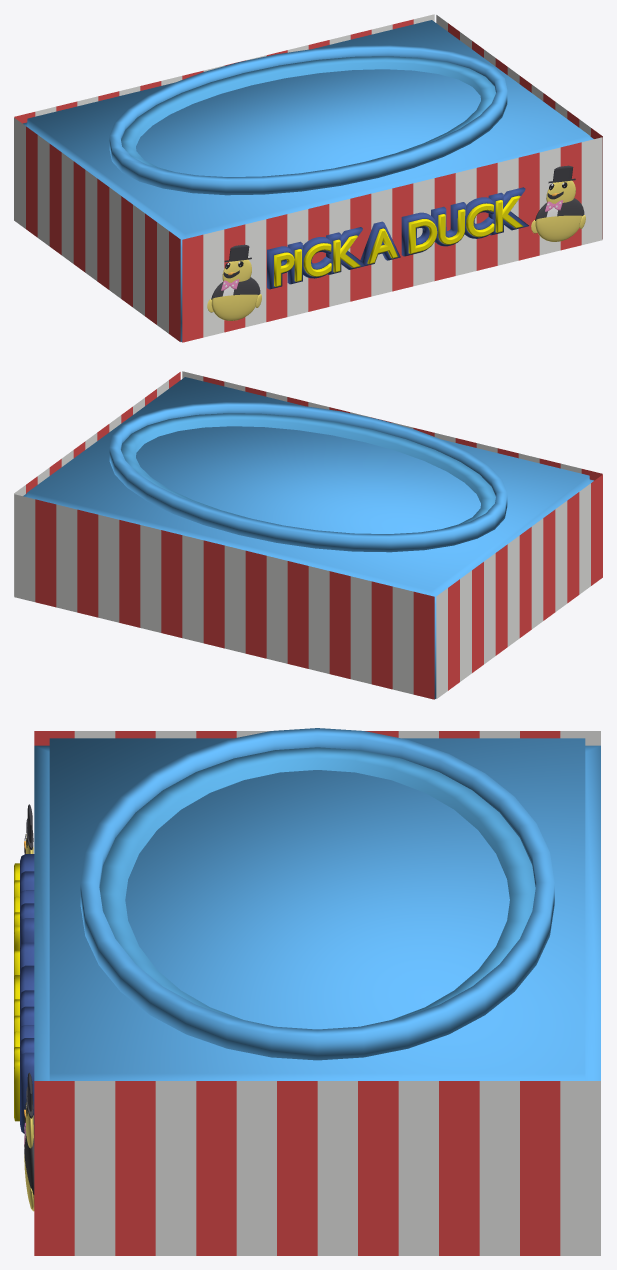
The model's file is Pool.glb.
3 views of the same model, one above another, from view 1: azimuth 30°, elevation 25°; view 2: azimuth 150°, elevation 25°; view 3: azimuth 270°, elevation 25° (orthographic). The views are drawn at different scales.
Visible parts, largest first — view 1: Pool; view 2: Pool; view 3: Pool.
Part boxes in pixels (box(x1,y1,x2,y2)): Pool: box(14, 14, 602, 342); Pool: box(14, 371, 602, 699); Pool: box(14, 728, 600, 1255).
Bounding box in the file's own units: 3.22 × 0.85 × 2.29.
